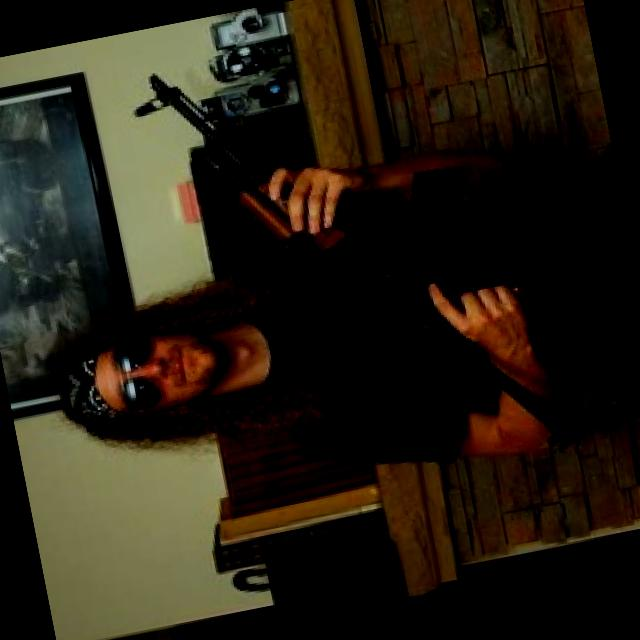long weapon: (121, 37, 566, 454)
